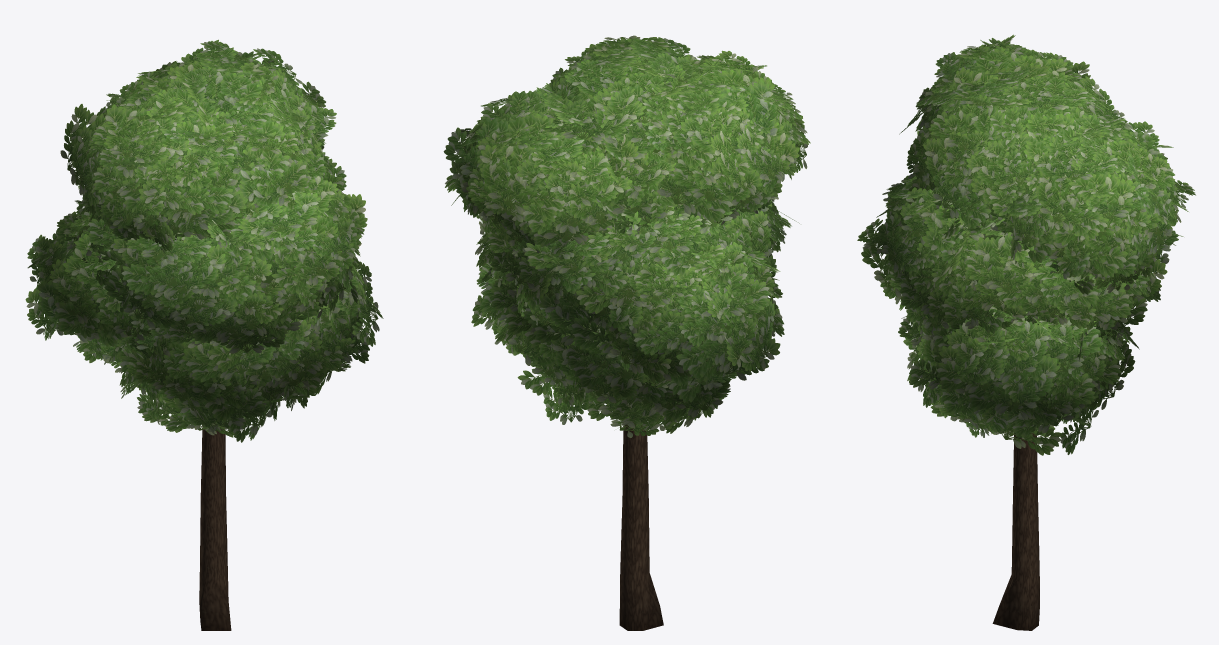
File: sundari_b_lod1.glb
3 renders of one model, left to right at view 1: azimuth 30°, elevation 25°; view 2: azimuth 150°, elevation 25°; view 3: azimuth 270°, elevation 25°, orthographic. The views are drawn at different scales.
Visible parts, largest first — view 1: leaves, wood; view 2: leaves, wood; view 3: leaves, wood.
Boxes of the visible parts, left/top/right/bottom form: leaves: left=25, top=39, right=383, bottom=442; wood: left=199, top=426, right=231, bottom=630; leaves: left=443, top=35, right=810, bottom=437; wood: left=619, top=424, right=663, bottom=630; leaves: left=857, top=34, right=1195, bottom=455; wood: left=992, top=429, right=1039, bottom=630.
Bounding box in the file's own units: 8.45 × 14.36 × 8.08.
Materials: 2 (2 with a texture image).
